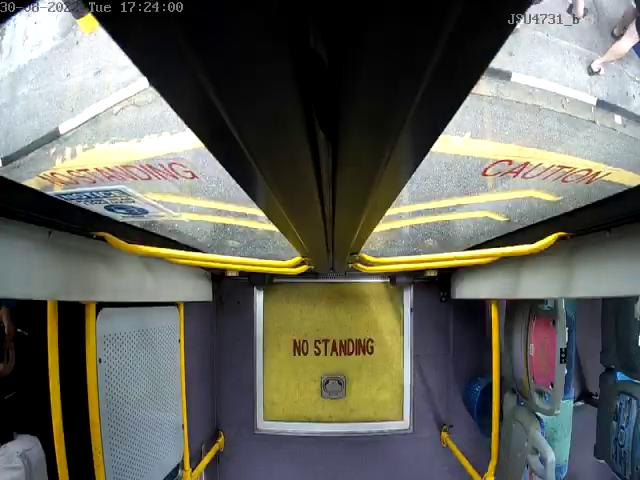close: (0, 0, 640, 102)
